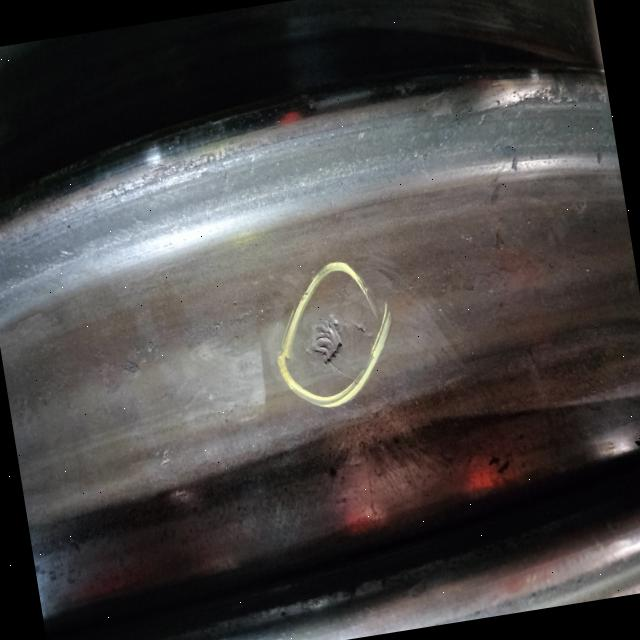Blue hole: (300, 294, 373, 371)
flat: (132, 331, 276, 432)
